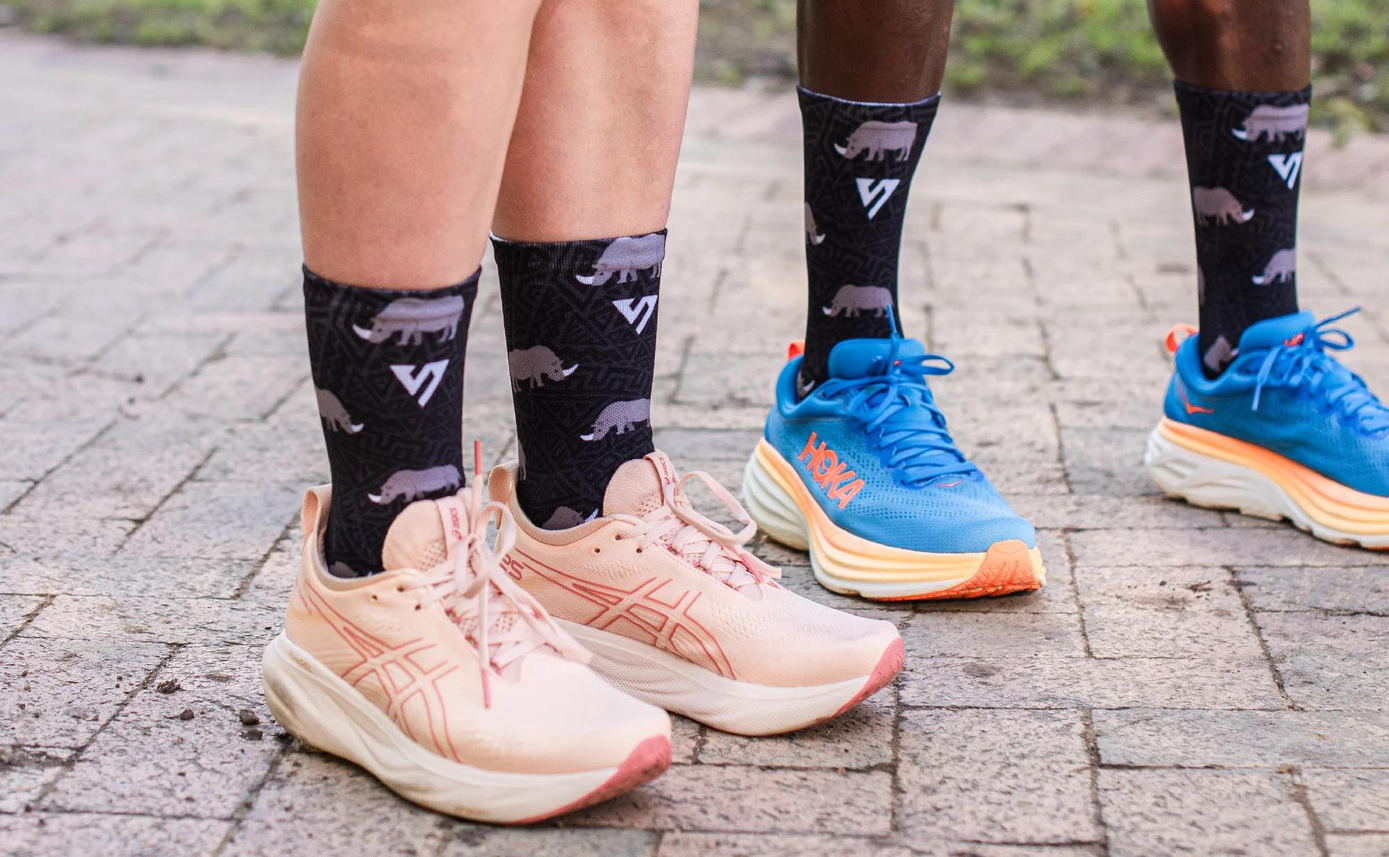asics logo: (497, 535, 764, 689), (282, 574, 482, 770)
hoka logo: (791, 422, 879, 524), (1168, 367, 1225, 440)
sock logo: (306, 284, 462, 490), (502, 252, 659, 451), (802, 108, 933, 332), (1186, 95, 1300, 323)
